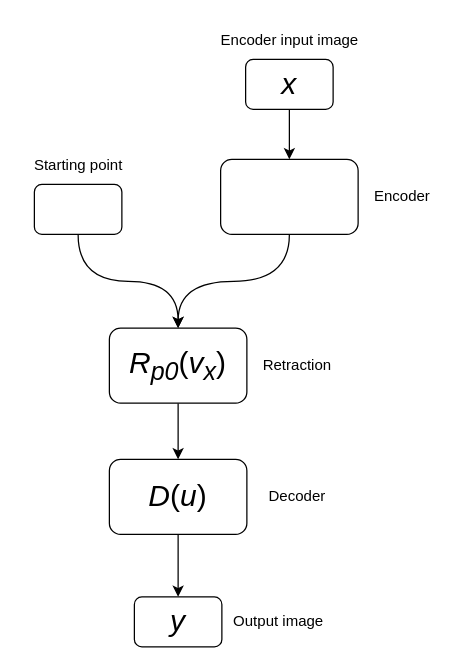
The diagram is 466 pixels wide and 669 high, and some of its shapes have lost their labels. Each missing label, with the centre of its shape:
E ( x ): [288,196]
p 0: [77,208]
